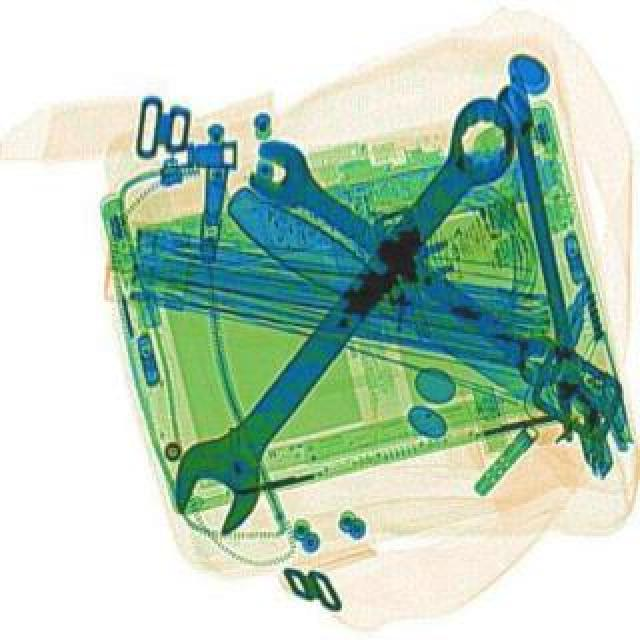knife: (216, 176, 608, 428)
scissors: (152, 76, 544, 540), (236, 128, 580, 394)
